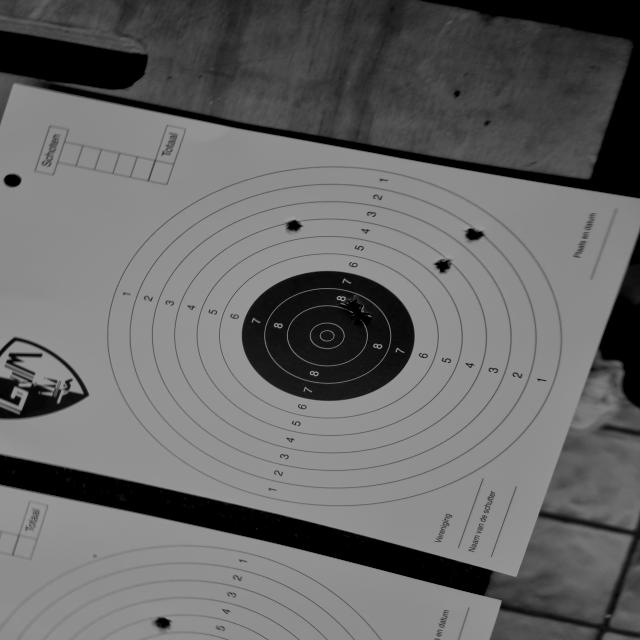3: (462, 228, 486, 243)
4: (432, 257, 454, 274), (286, 220, 304, 232)
9: (337, 295, 365, 312), (352, 312, 373, 326)
Target: (108, 166, 562, 506)
black_contour: (238, 274, 411, 403)
